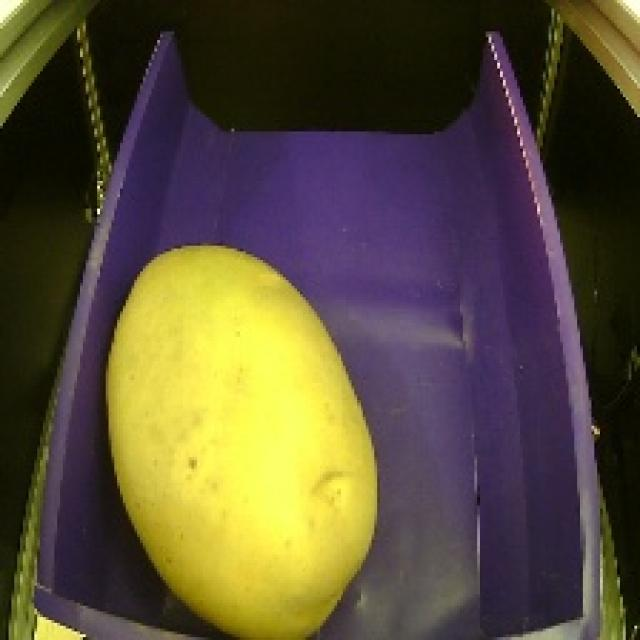full_potato: (84, 227, 394, 640)
